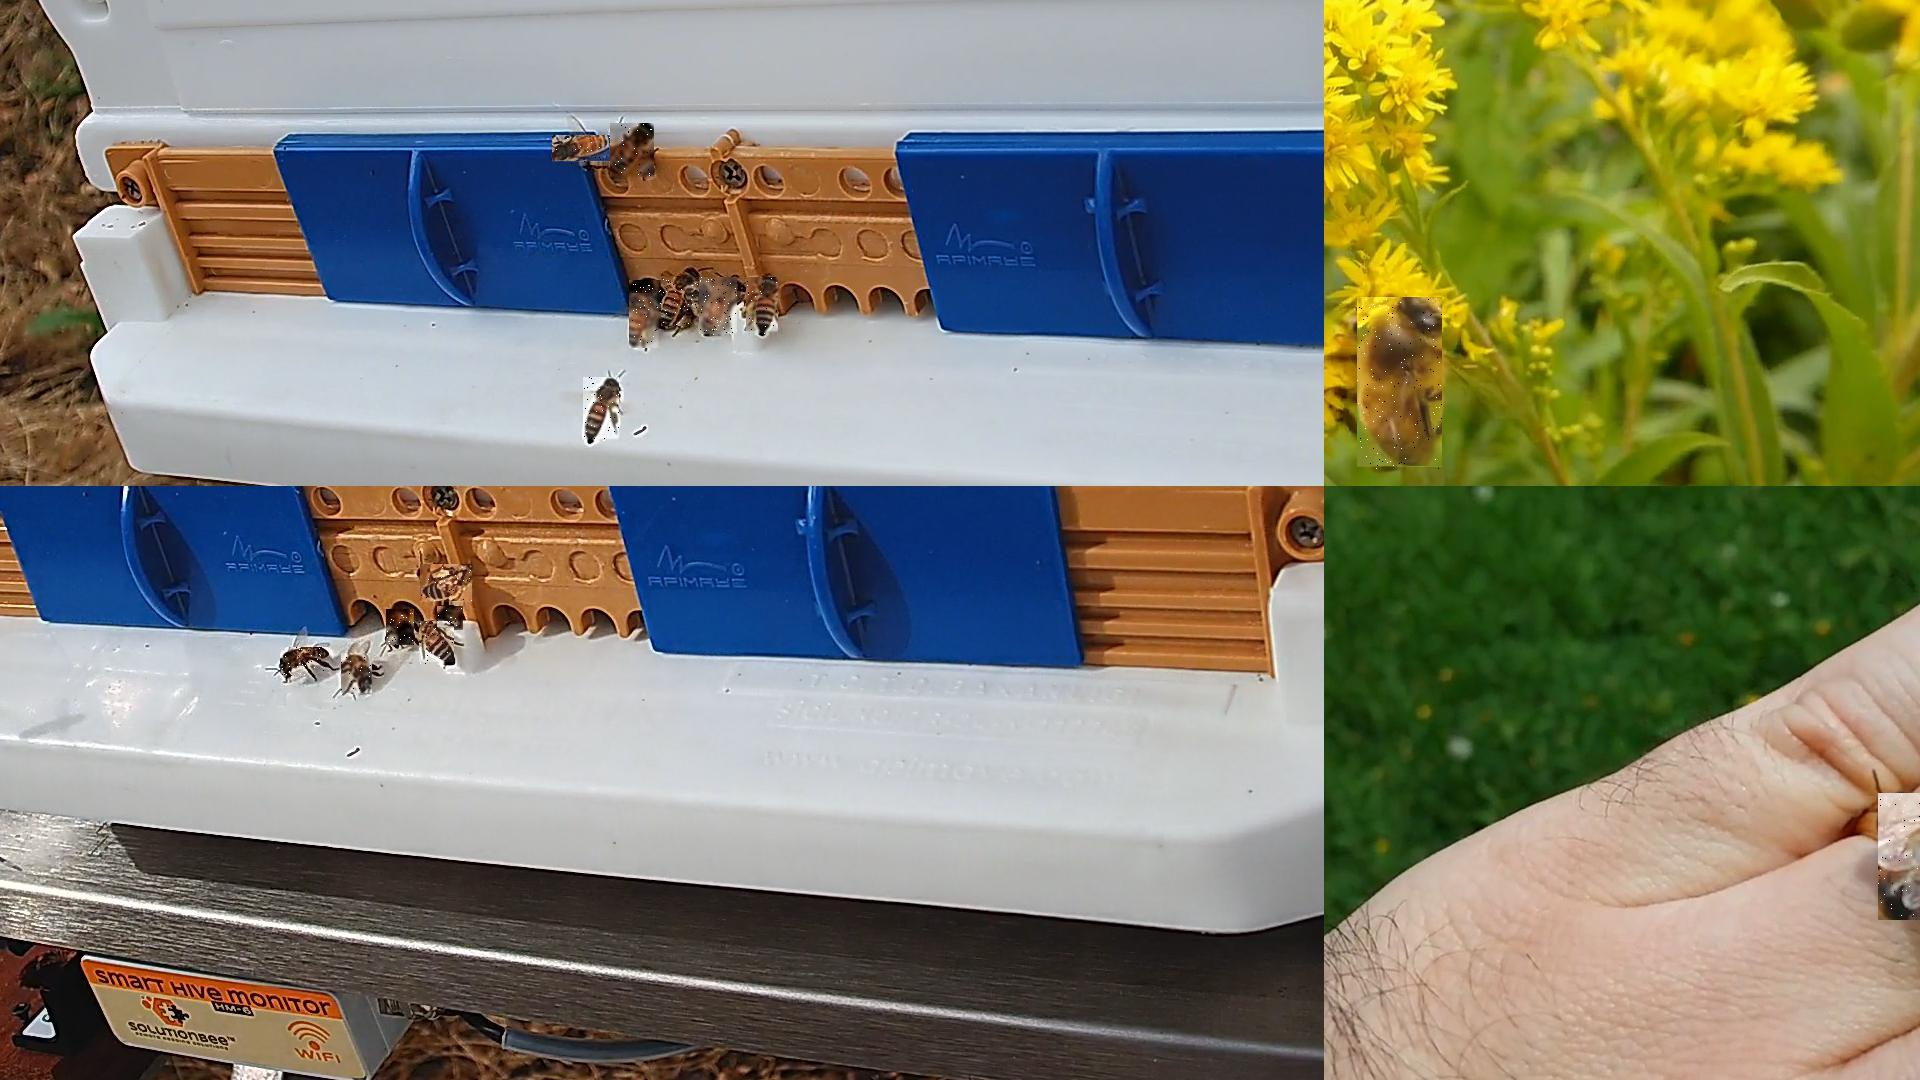bee: (1357, 298, 1443, 471), (611, 124, 655, 179), (699, 278, 738, 338), (421, 564, 473, 605), (553, 136, 615, 166), (419, 622, 455, 666), (281, 647, 334, 676), (342, 653, 373, 694), (386, 609, 415, 646), (629, 280, 663, 310), (438, 607, 464, 632), (688, 282, 711, 311)
drone: (1878, 793, 1919, 922)
pollenbee: (583, 377, 620, 443), (746, 278, 779, 336), (630, 294, 662, 349), (662, 276, 692, 327)
